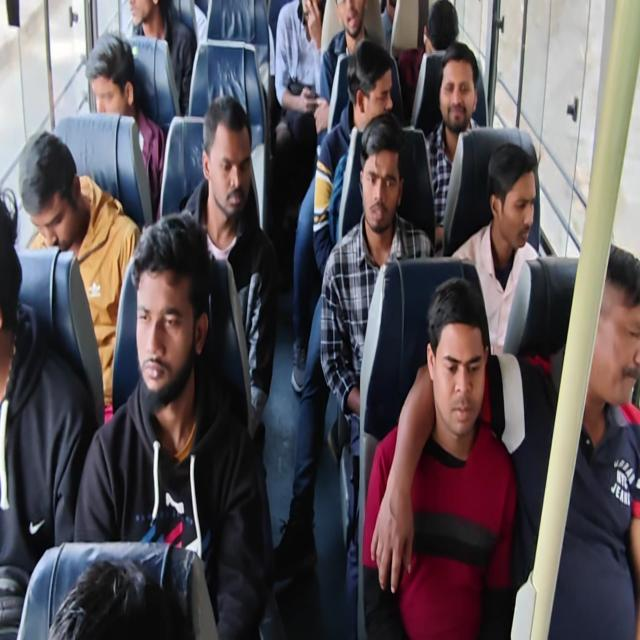person: (132, 219, 198, 409), (576, 266, 640, 430), (422, 288, 484, 447), (354, 120, 420, 235), (79, 36, 142, 150), (18, 134, 82, 243), (200, 106, 254, 222), (494, 143, 541, 251), (432, 59, 480, 150), (415, 6, 469, 69), (347, 59, 390, 138), (329, 0, 371, 53), (288, 0, 333, 38), (122, 0, 165, 36)
